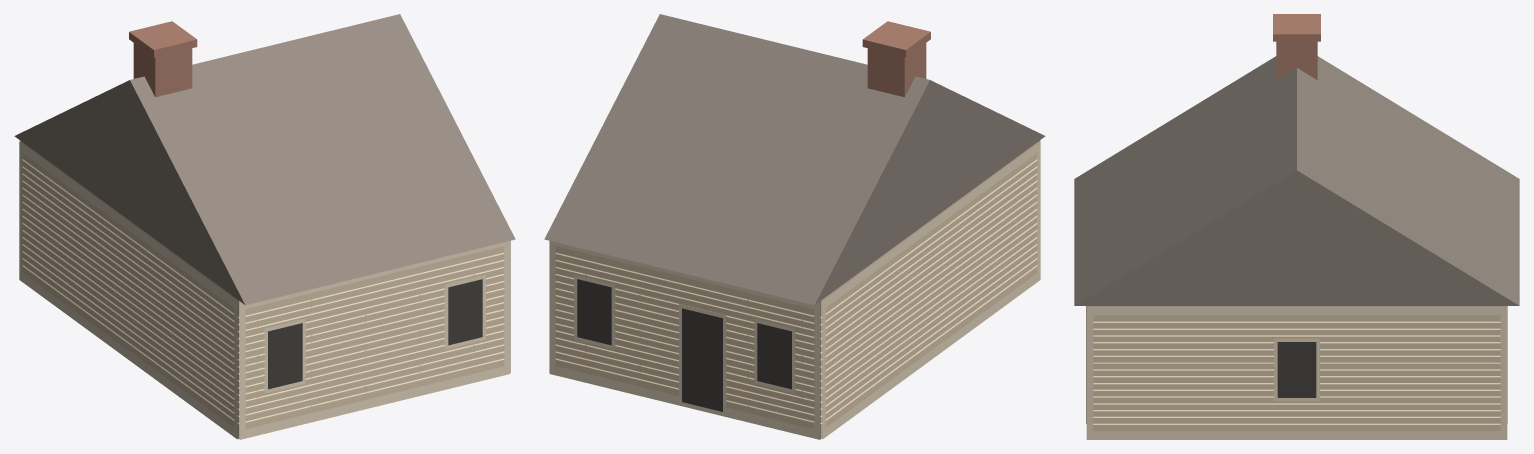
The model's file is recon_1835_west_003__inferred_1835.glb.
The picture shows the model from 3 angles, left to right: view 1: azimuth 30°, elevation 25°; view 2: azimuth 150°, elevation 25°; view 3: azimuth 270°, elevation 25°; orthographic projection. The views are drawn at different scales.
Visible parts, largest first — view 1: recon_1835_west_003__inferred_1835; view 2: recon_1835_west_003__inferred_1835; view 3: recon_1835_west_003__inferred_1835.
Part boxes in pixels (box(x1,y1,x2,y2)): recon_1835_west_003__inferred_1835: box(14, 14, 515, 439); recon_1835_west_003__inferred_1835: box(544, 14, 1045, 439); recon_1835_west_003__inferred_1835: box(1074, 14, 1519, 439).
Bounding box in the file's own units: 6.18 × 6.8 × 9.03.
